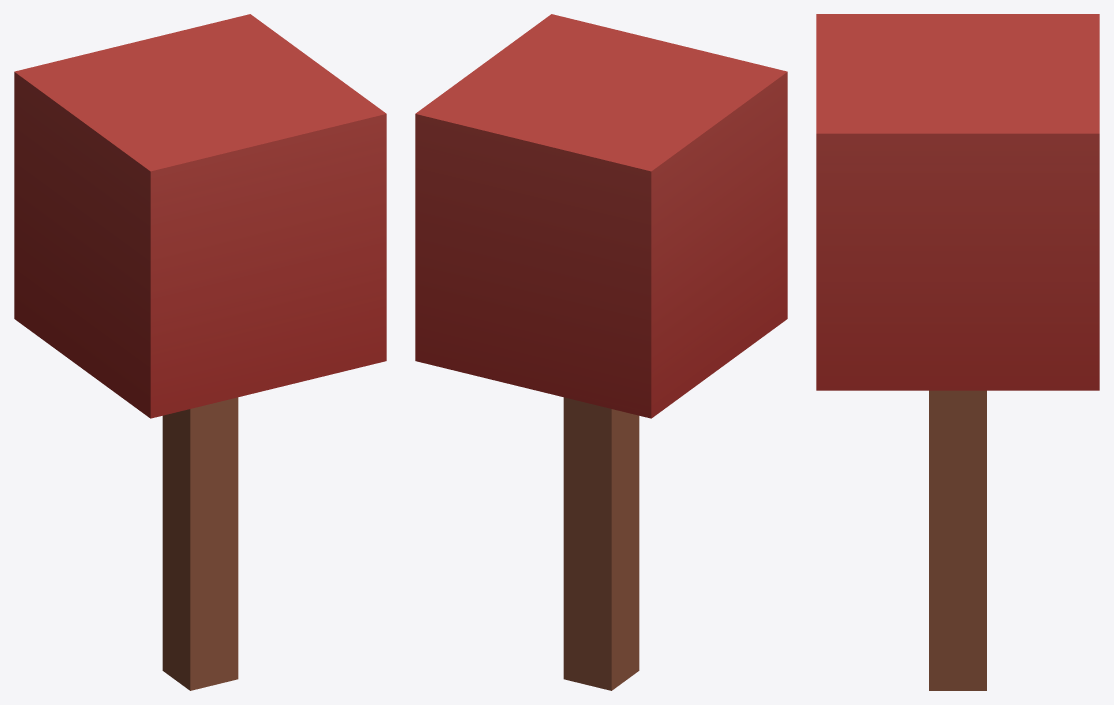
File: Tree_47_gradient_red_pal.fbx
3 renders of one model, left to right at view 1: azimuth 30°, elevation 25°; view 2: azimuth 150°, elevation 25°; view 3: azimuth 270°, elevation 25°, orthographic. The views are drawn at different scales.
Parts seen in each view (by area): view 1: Tree_47_gradient_red_pal; view 2: Tree_47_gradient_red_pal; view 3: Tree_47_gradient_red_pal.
Part boxes in pixels (x1,y1,x2,y2): Tree_47_gradient_red_pal: [14, 14, 386, 690]; Tree_47_gradient_red_pal: [415, 14, 787, 690]; Tree_47_gradient_red_pal: [816, 14, 1099, 690].
Size of the model in its own units: 72.7 by 171 by 72.7.
